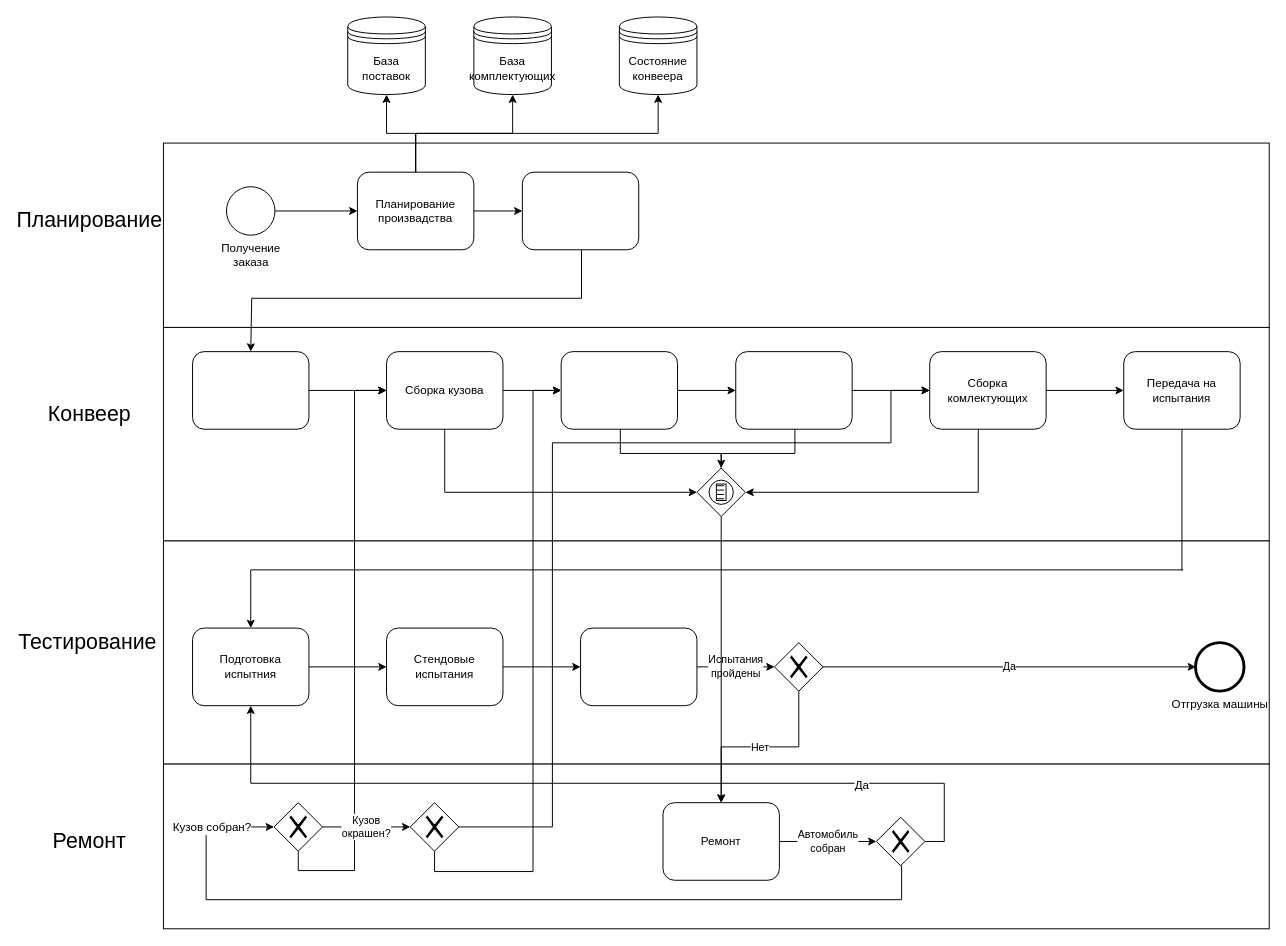
Image size: 1286x946. Some labels were removed from this diagram. Here are the shapes that lost their labels. From the top down, the centre of each, then its label:
At pixel 580 210: "Передача плана произваодства".
At pixel 250 390: "Получение плана производства".
At pixel 619 390: "Покраска кузова".
At pixel 793 390: "Сушка кузова".
At pixel 720 492: "Наличие дефекта?".
At pixel 638 666: "Ходовые испытания".
